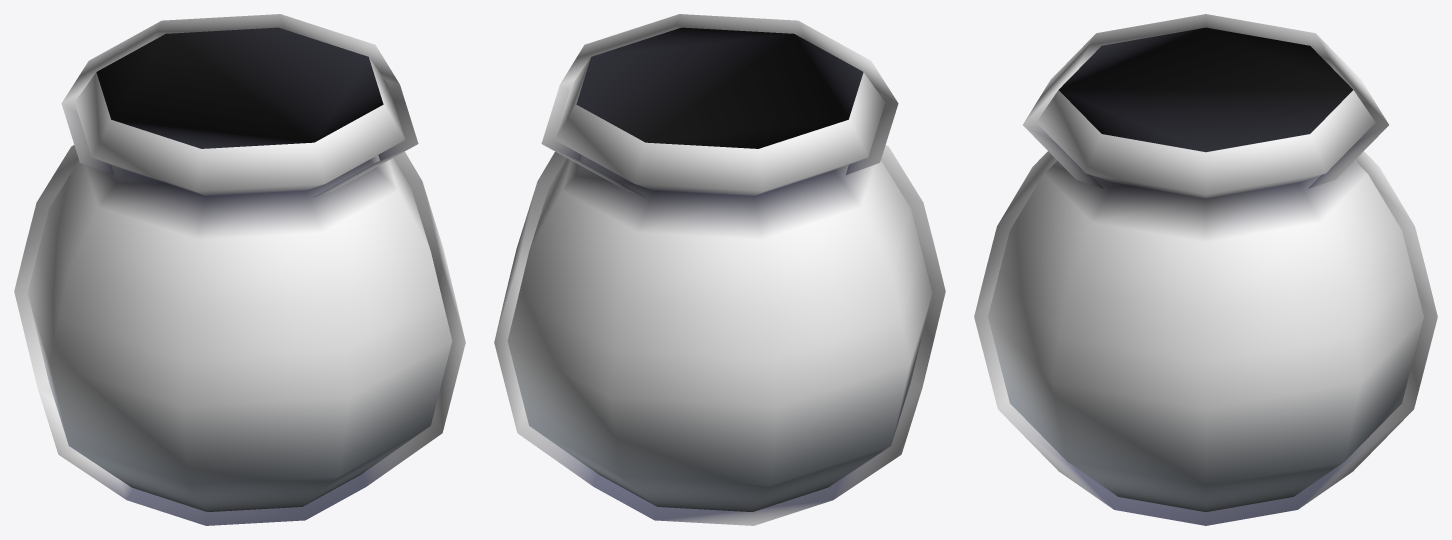
File: potColor.glb
The picture shows the model from 3 angles, left to right: view 1: azimuth 30°, elevation 25°; view 2: azimuth 150°, elevation 25°; view 3: azimuth 270°, elevation 25°; orthographic projection.
Visible parts, largest first — view 1: Cube, Cube.001; view 2: Cube, Cube.001; view 3: Cube, Cube.001.
Boxes of the visible parts, <box> form: Cube: <box>27,27,452,511</box>; Cube.001: <box>14,14,465,525</box>; Cube: <box>507,27,932,511</box>; Cube.001: <box>494,14,945,525</box>; Cube: <box>988,27,1423,511</box>; Cube.001: <box>974,14,1437,525</box>.
Size of the model in its own units: 5.26 by 4.89 by 5.26.
